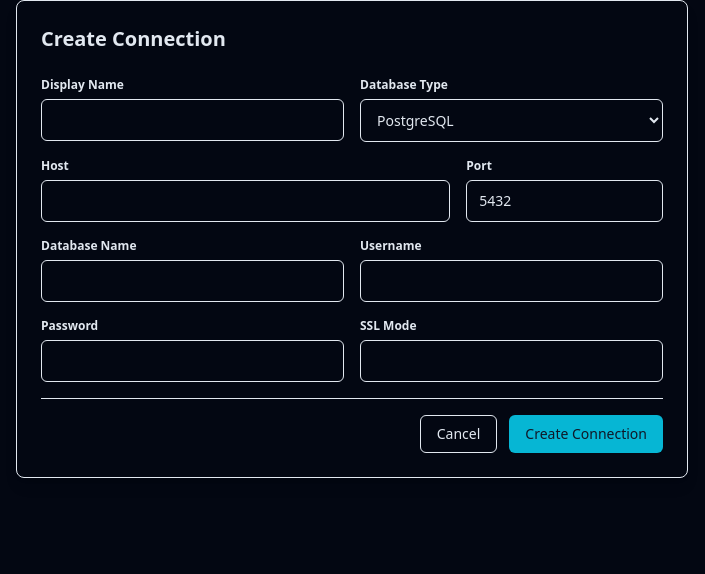
Test: ConnectionForm › basic validation prevents submit when required fields are empty
Click the button "Create Connection": (586, 434) x1=509 y1=415 x2=663 y2=453
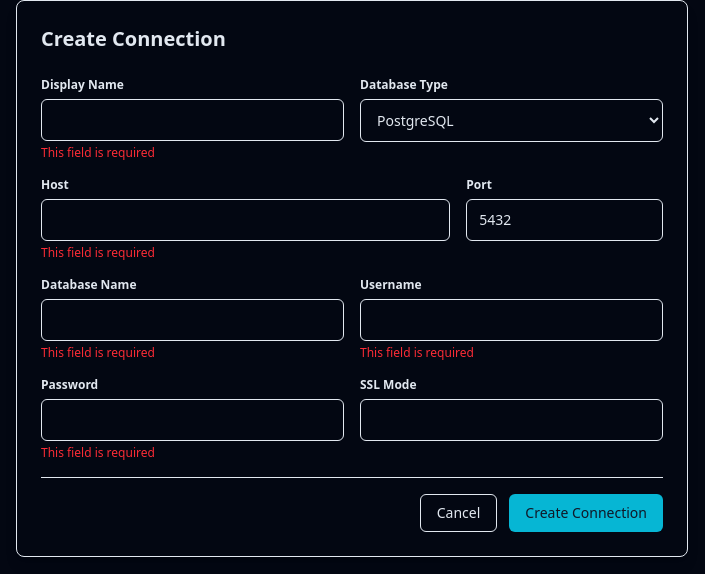
Result: the text "This field is required" below "Display Name" is shown at x1=41 y1=144 x2=155 y2=161
